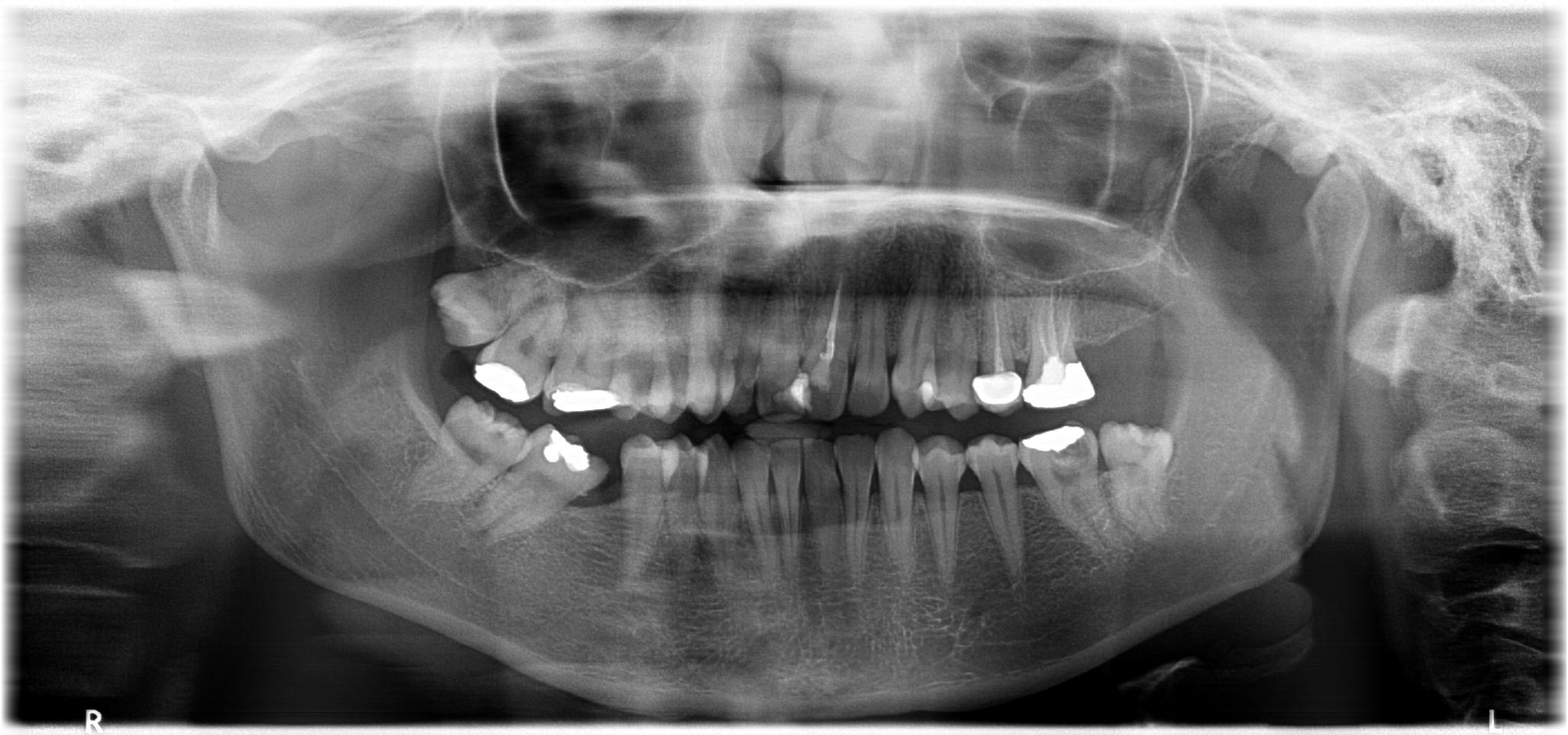Premolars: (498, 214, 1521, 687), (474, 217, 1443, 692), (448, 210, 1361, 683), (198, 226, 595, 729), (201, 121, 641, 474)
